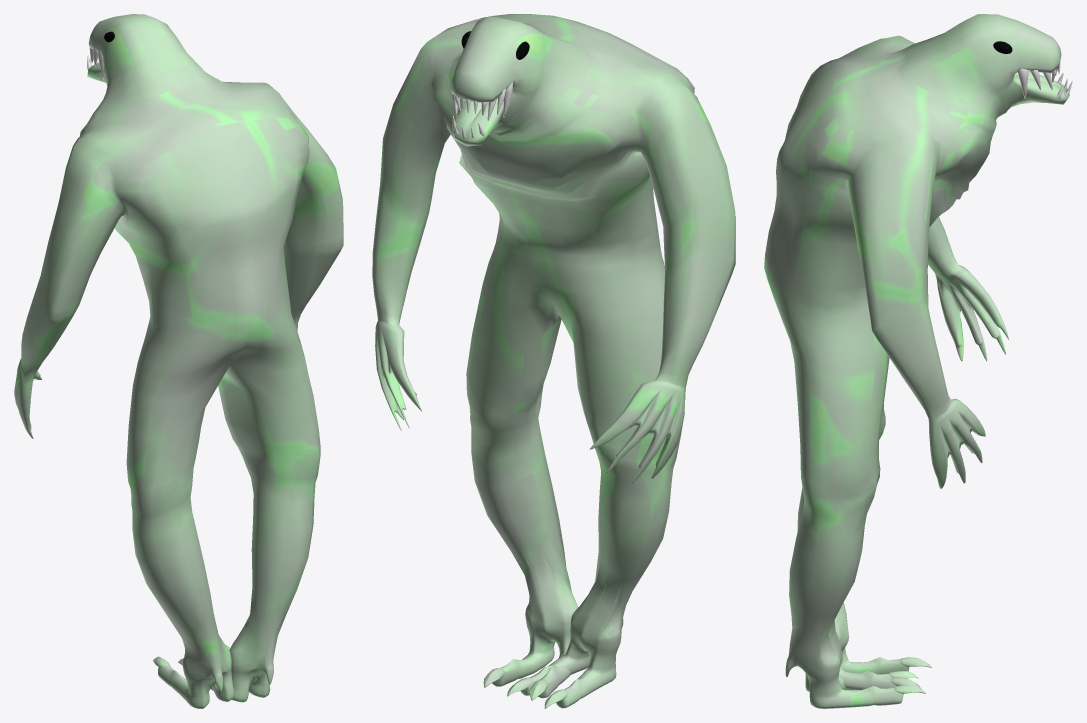
Rendered from Berserkerandar.0014.obj.
The picture shows the model from 3 angles, left to right: view 1: azimuth 30°, elevation 25°; view 2: azimuth 150°, elevation 25°; view 3: azimuth 270°, elevation 25°; orthographic projection. The views are drawn at different scales.
Visible parts, largest first — view 1: polySurface27; view 2: polySurface27; view 3: polySurface27.
Part boxes in pixels (left/top/right/bottom): polySurface27: left=14, top=14, right=343, bottom=708; polySurface27: left=372, top=14, right=735, bottom=708; polySurface27: left=764, top=14, right=1072, bottom=708.
Size of the model in its own units: 11.71 by 23.66 by 9.95.
Materials: 1 (1 with a texture image).
